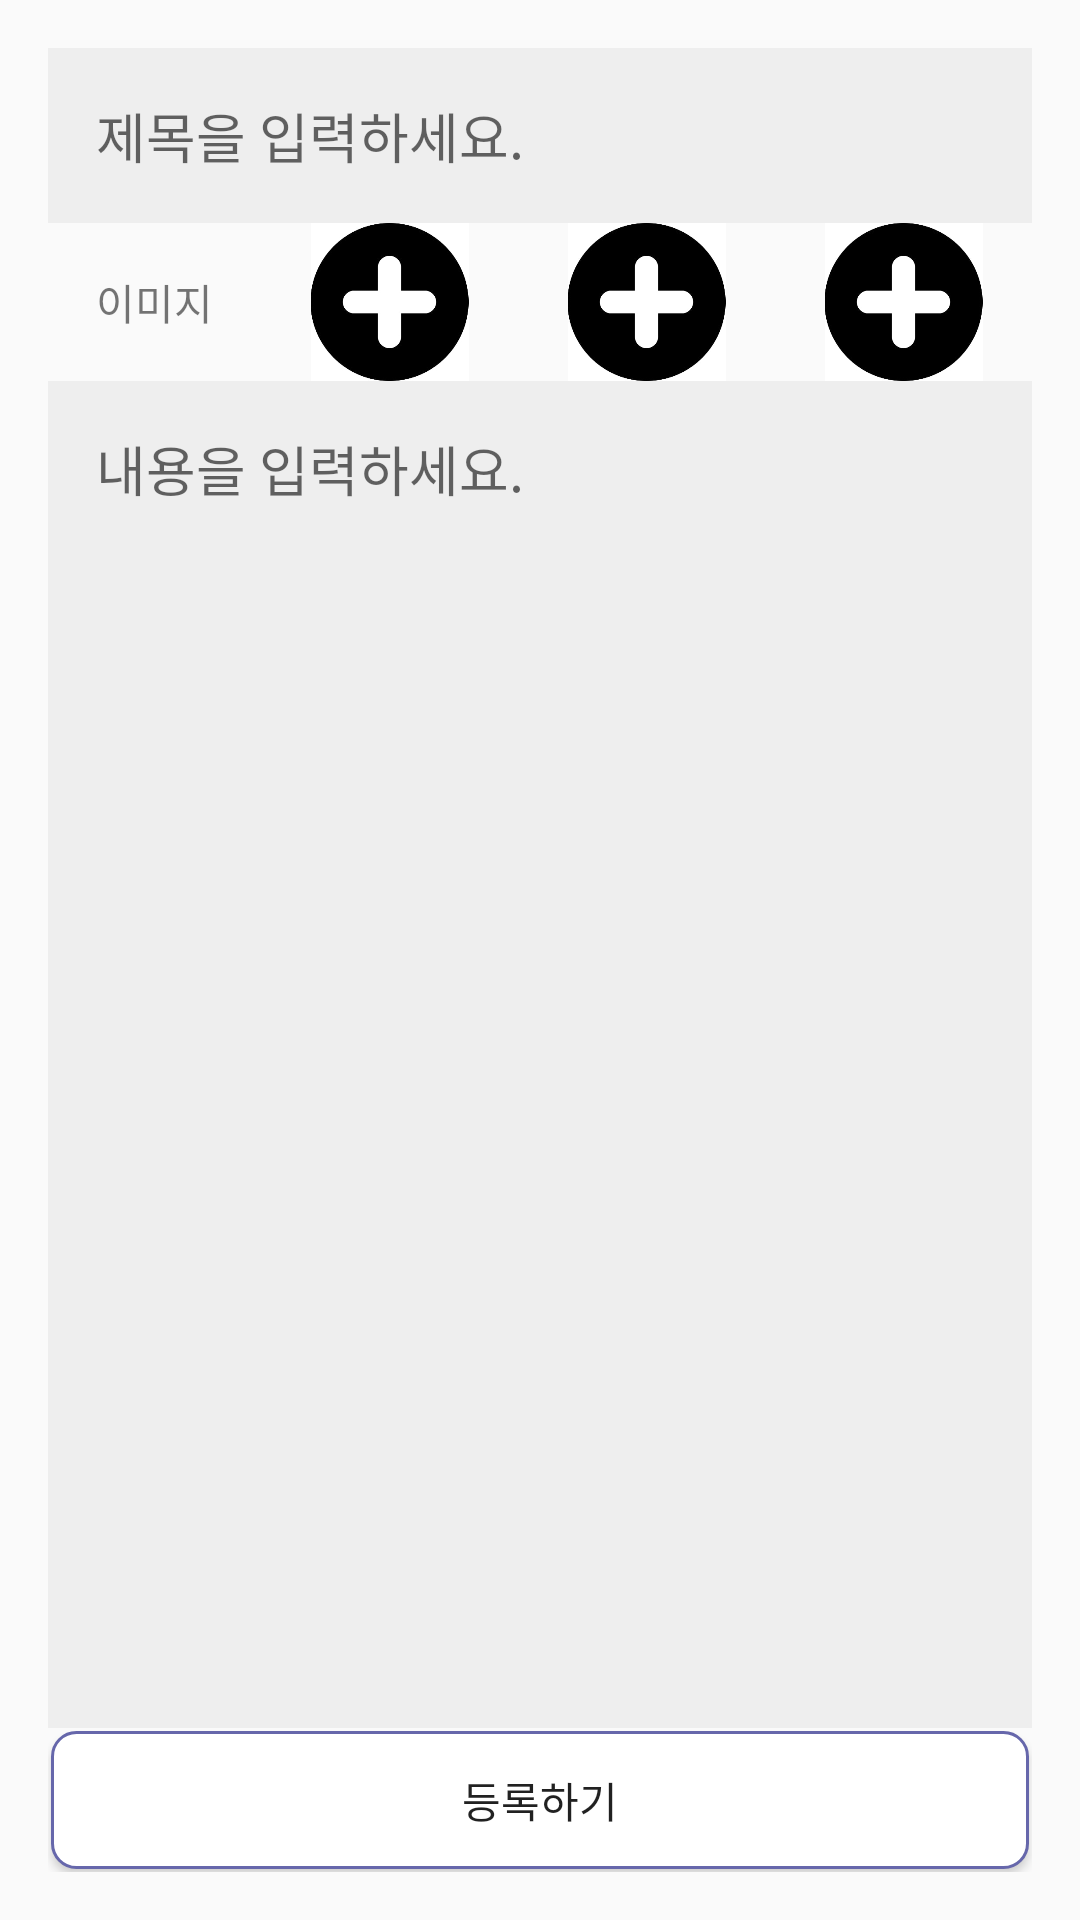

Icon click points for this 1080w x 1920h phone screenshot, format (x=x, y=y):
plus: (x=390, y=302), (x=647, y=302), (x=904, y=302)
